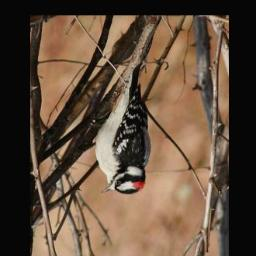Woodpecker: (91, 62, 150, 195)
